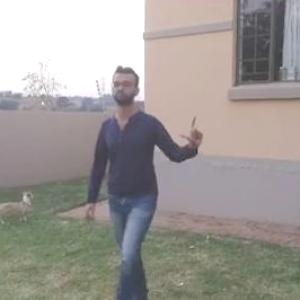land_hand: (177, 109, 208, 154)
